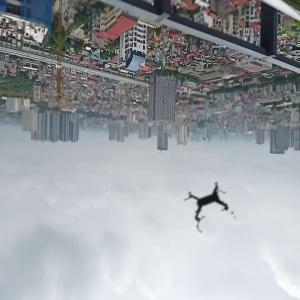drone: (164, 159, 257, 252)
